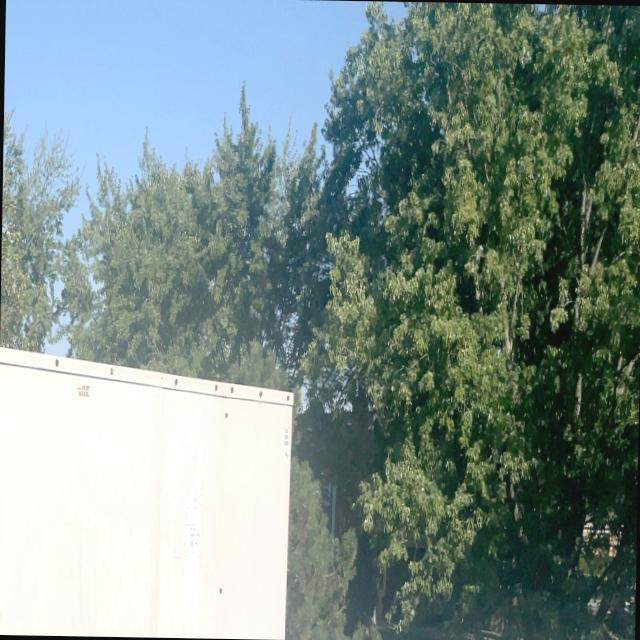RTU: (0, 341, 296, 639)
